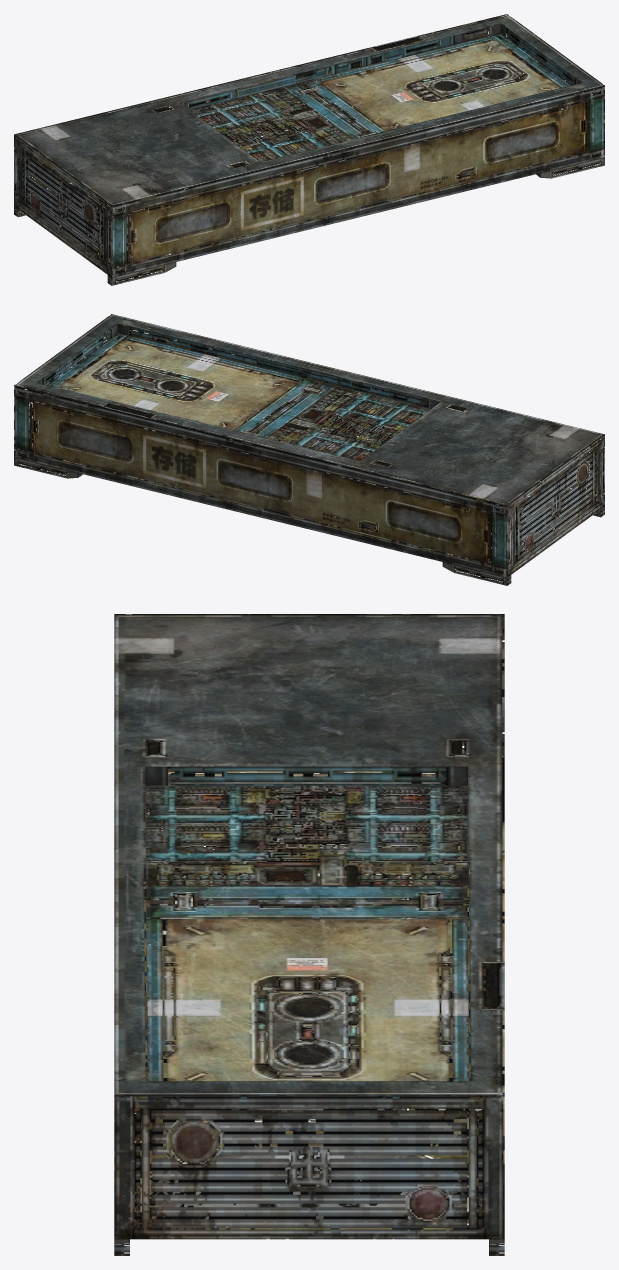
The model's file is computer_multimedia_tv.dae.
3 views of the same model, one above another, from view 1: azimuth 30°, elevation 25°; view 2: azimuth 150°, elevation 25°; view 3: azimuth 270°, elevation 25° (orthographic). The views are drawn at different scales.
Parts seen in each view (by area): view 1: Mesh__4_; view 2: Mesh__4_; view 3: Mesh__4_.
Part boxes in pixels (bbox=[...]): Mesh__4_: bbox=[14, 14, 604, 285]; Mesh__4_: bbox=[14, 314, 604, 585]; Mesh__4_: bbox=[114, 614, 504, 1255].
Bounding box in the file's own units: 0.8712 × 0.1351 × 0.2987.
